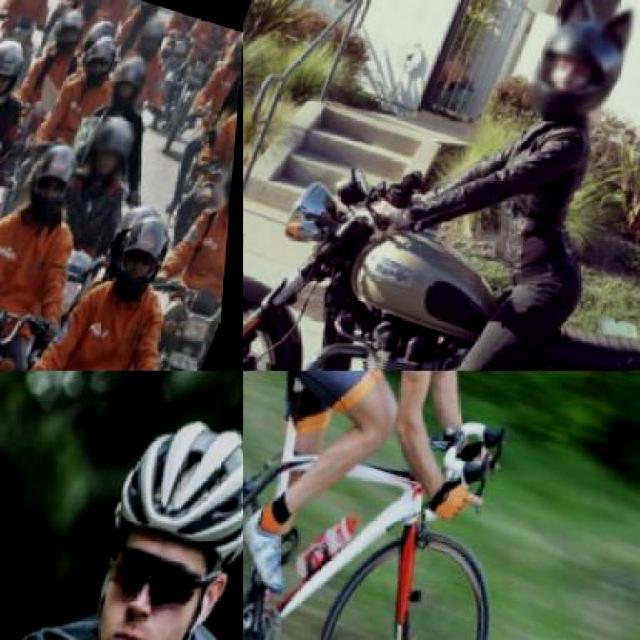With Helmet: (52, 398, 242, 638), (520, 0, 638, 131), (10, 123, 96, 231), (103, 205, 186, 308), (82, 114, 144, 188), (0, 26, 43, 122), (102, 47, 160, 118), (77, 30, 125, 88), (45, 4, 92, 62), (210, 130, 238, 224), (134, 11, 171, 63), (76, 0, 112, 23), (224, 31, 242, 77)
